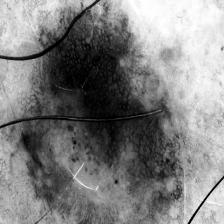Benign Marking or Mole: (22, 2, 185, 224)
